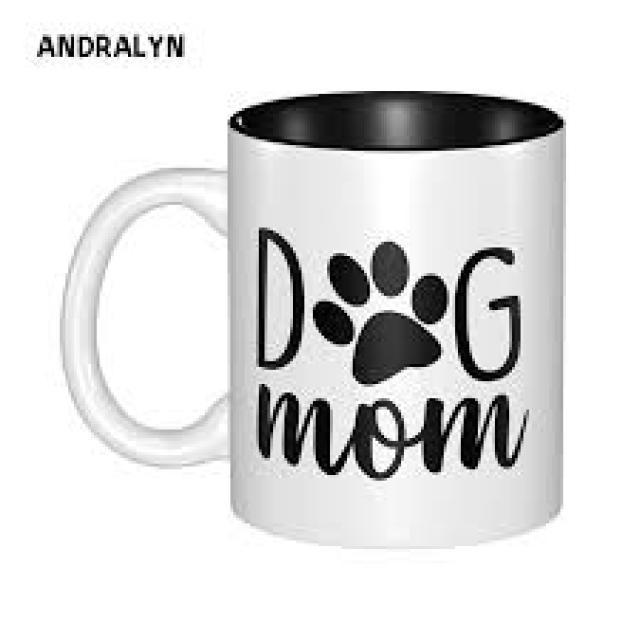taza: (52, 66, 579, 544)
